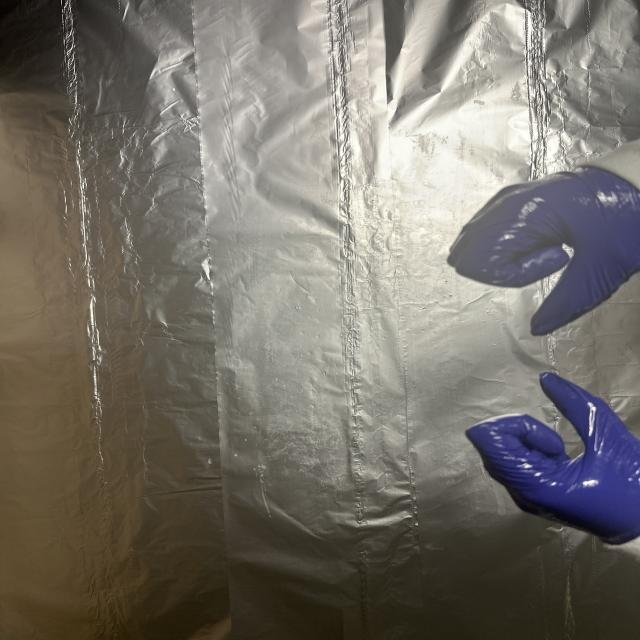gloves_contaminated: (448, 168, 640, 335), (466, 372, 640, 544)
